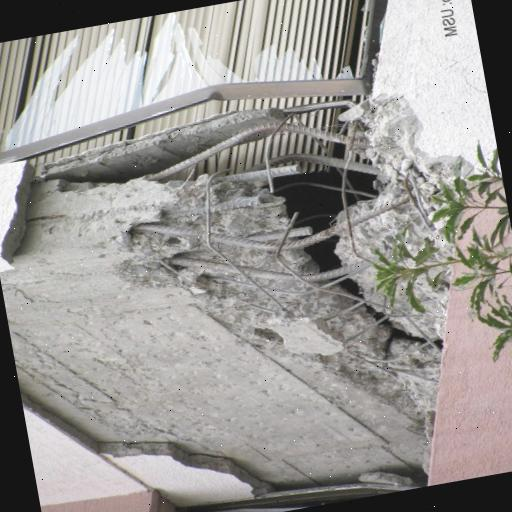spalling: (90, 96, 426, 350)
